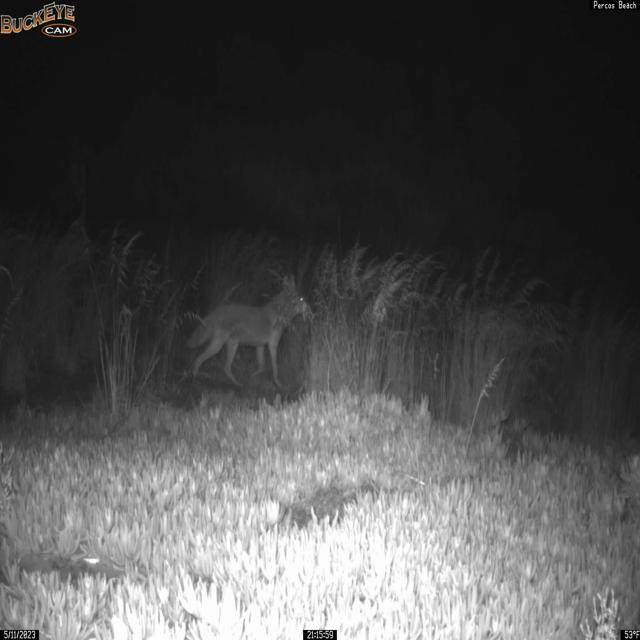coyote: (184, 274, 310, 390)
